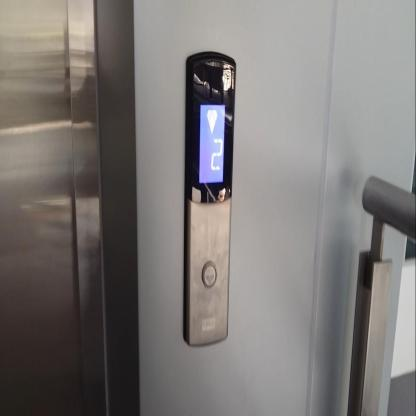down: (201, 261, 217, 288)
led: (198, 99, 226, 186)
